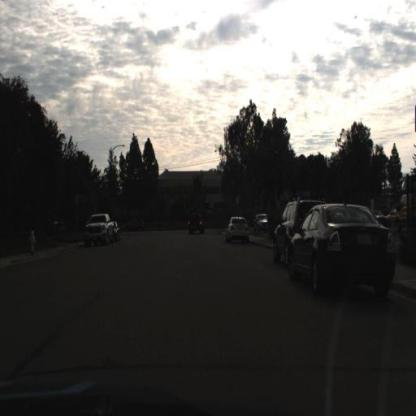car: (289, 201, 398, 296), (293, 198, 398, 293), (270, 198, 319, 278), (84, 212, 118, 251), (224, 213, 249, 247), (226, 215, 251, 244), (123, 212, 150, 233), (254, 212, 272, 240), (189, 211, 207, 238)
